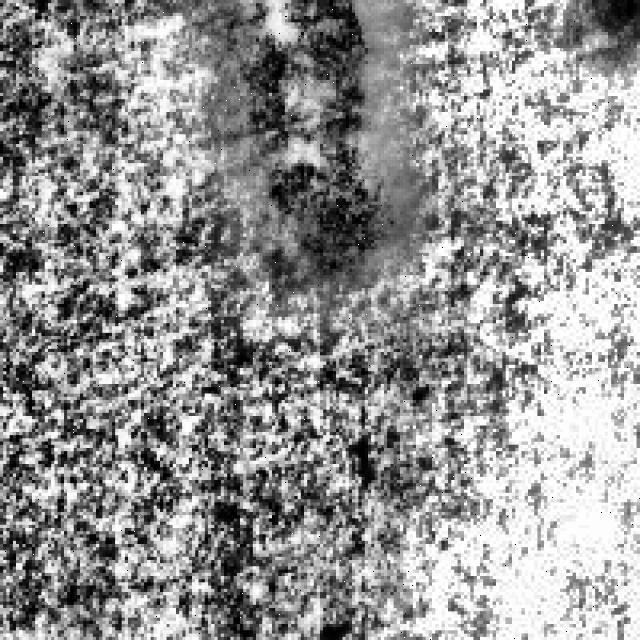Scratches: (227, 0, 400, 288)
